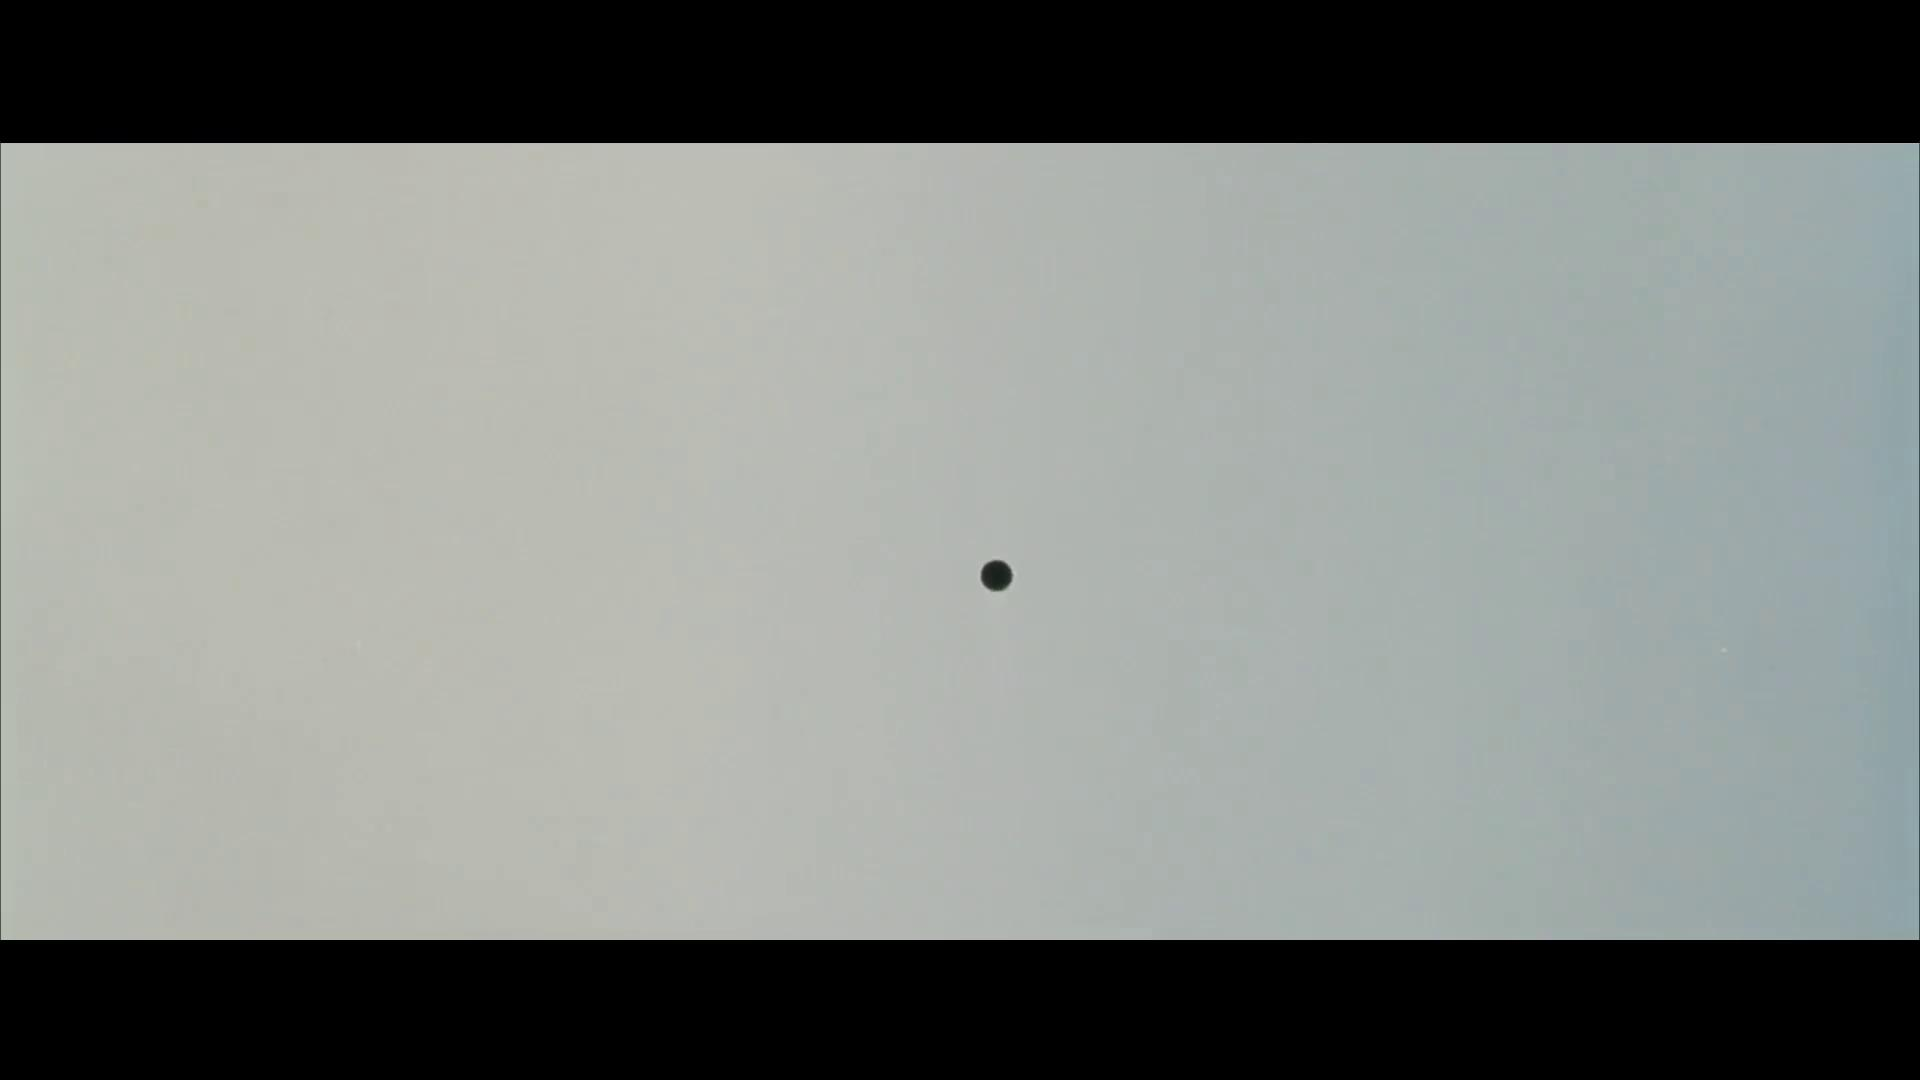bludger: (976, 556, 1017, 597)
